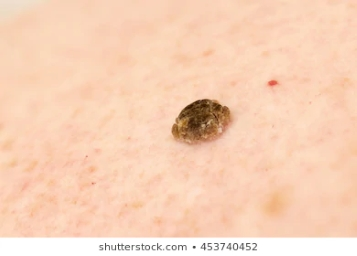seborrheic keratosis: (154, 81, 244, 157)
